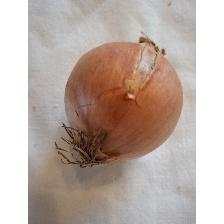Zwiebel: (62, 40, 184, 166)
